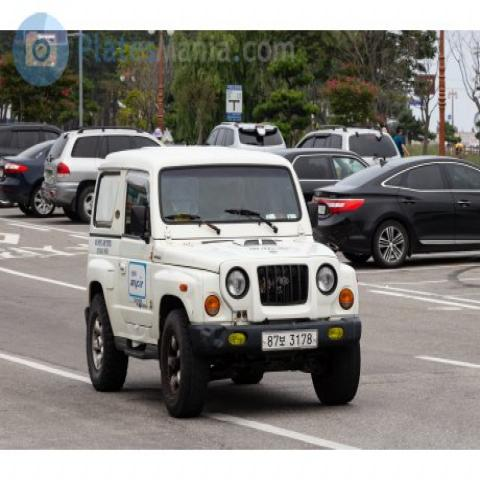LP: (258, 325, 318, 354)
